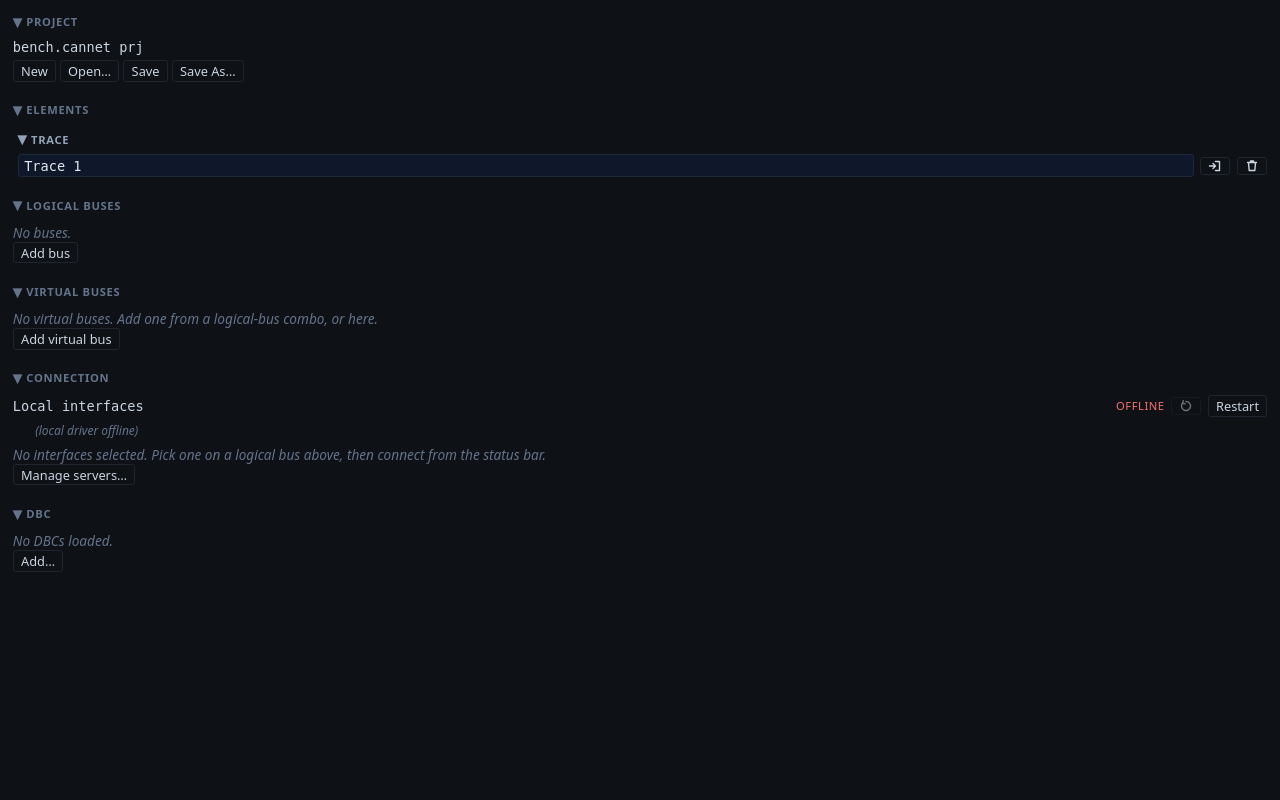
it: collapsible sections › unfolds again on a second click
The width and height of the screenshot is (1280, 800).
Click the button "▾ Elements" at (58, 110), box [13,98,1267,122]
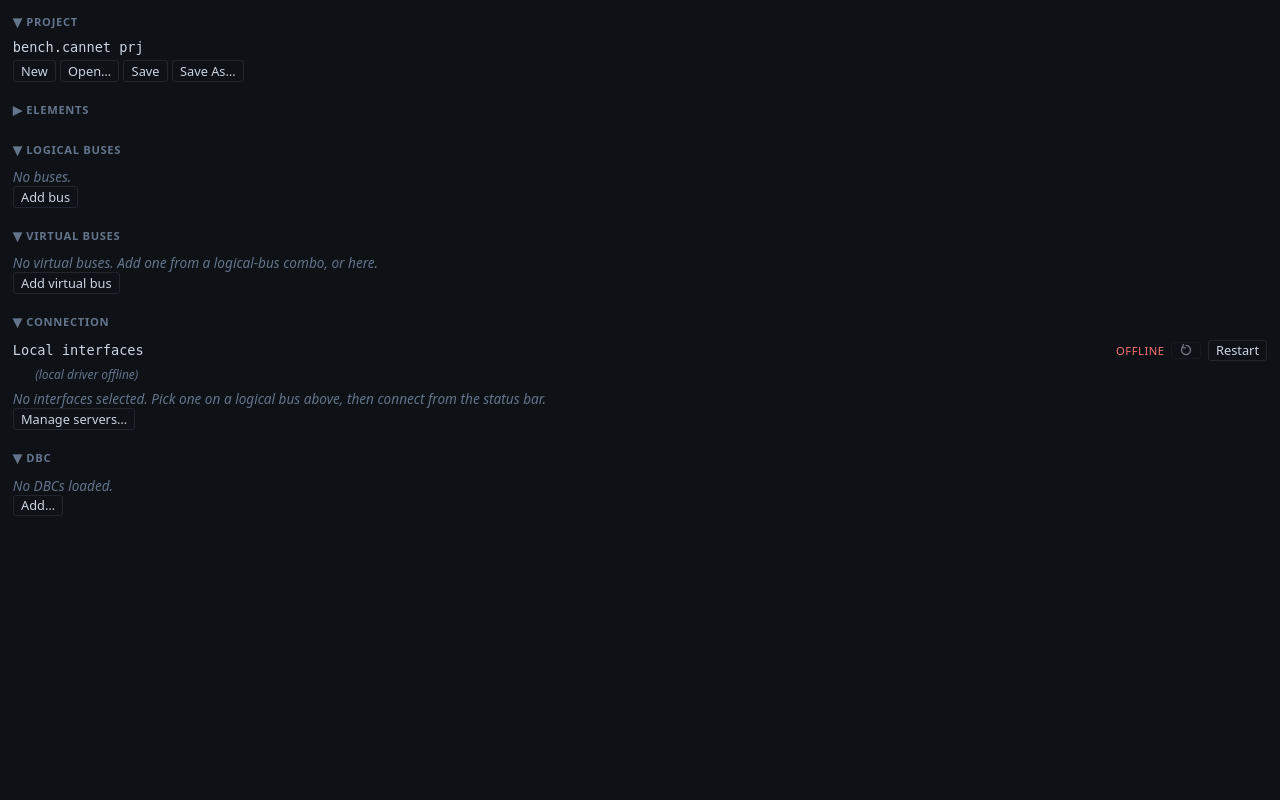
Click the button "▸ Elements" at (58, 110), box [13,98,1267,122]
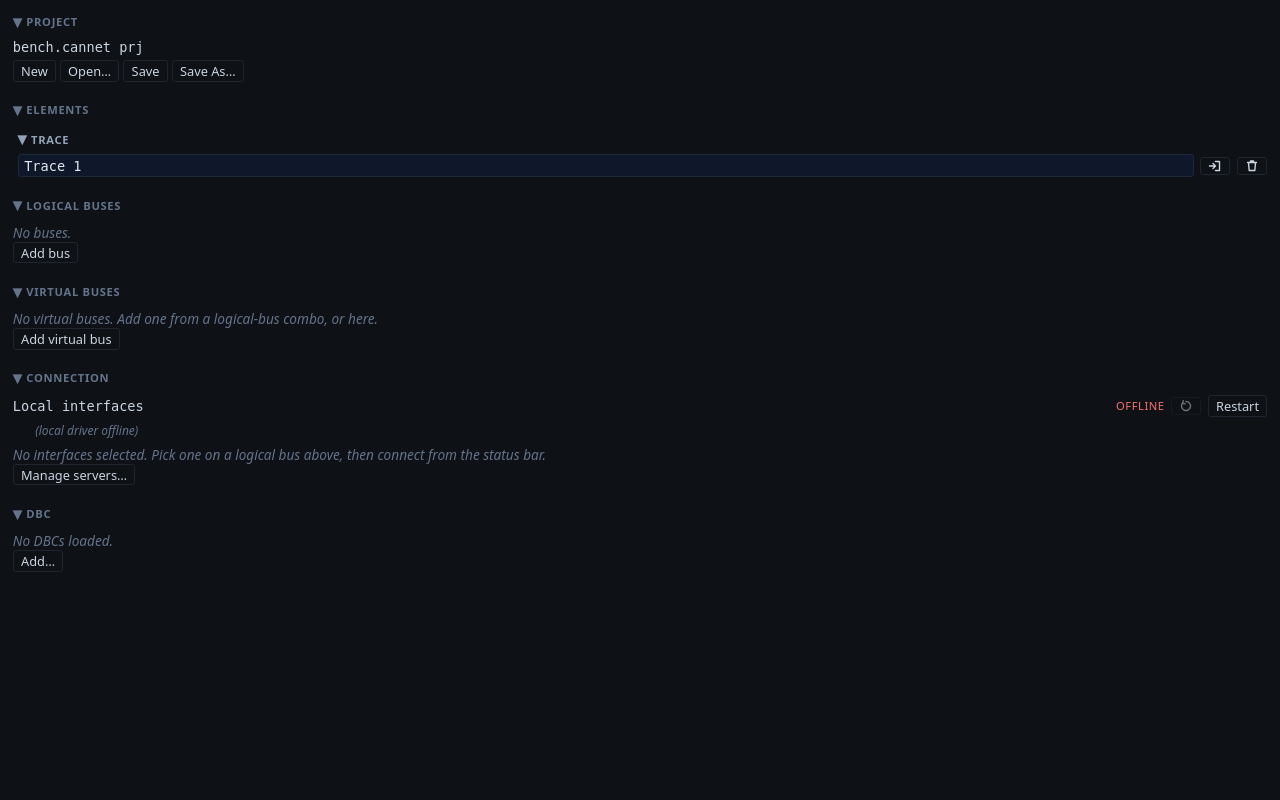
Expected: the field named "element el-1 name" is shown, [18,154,1194,177]
